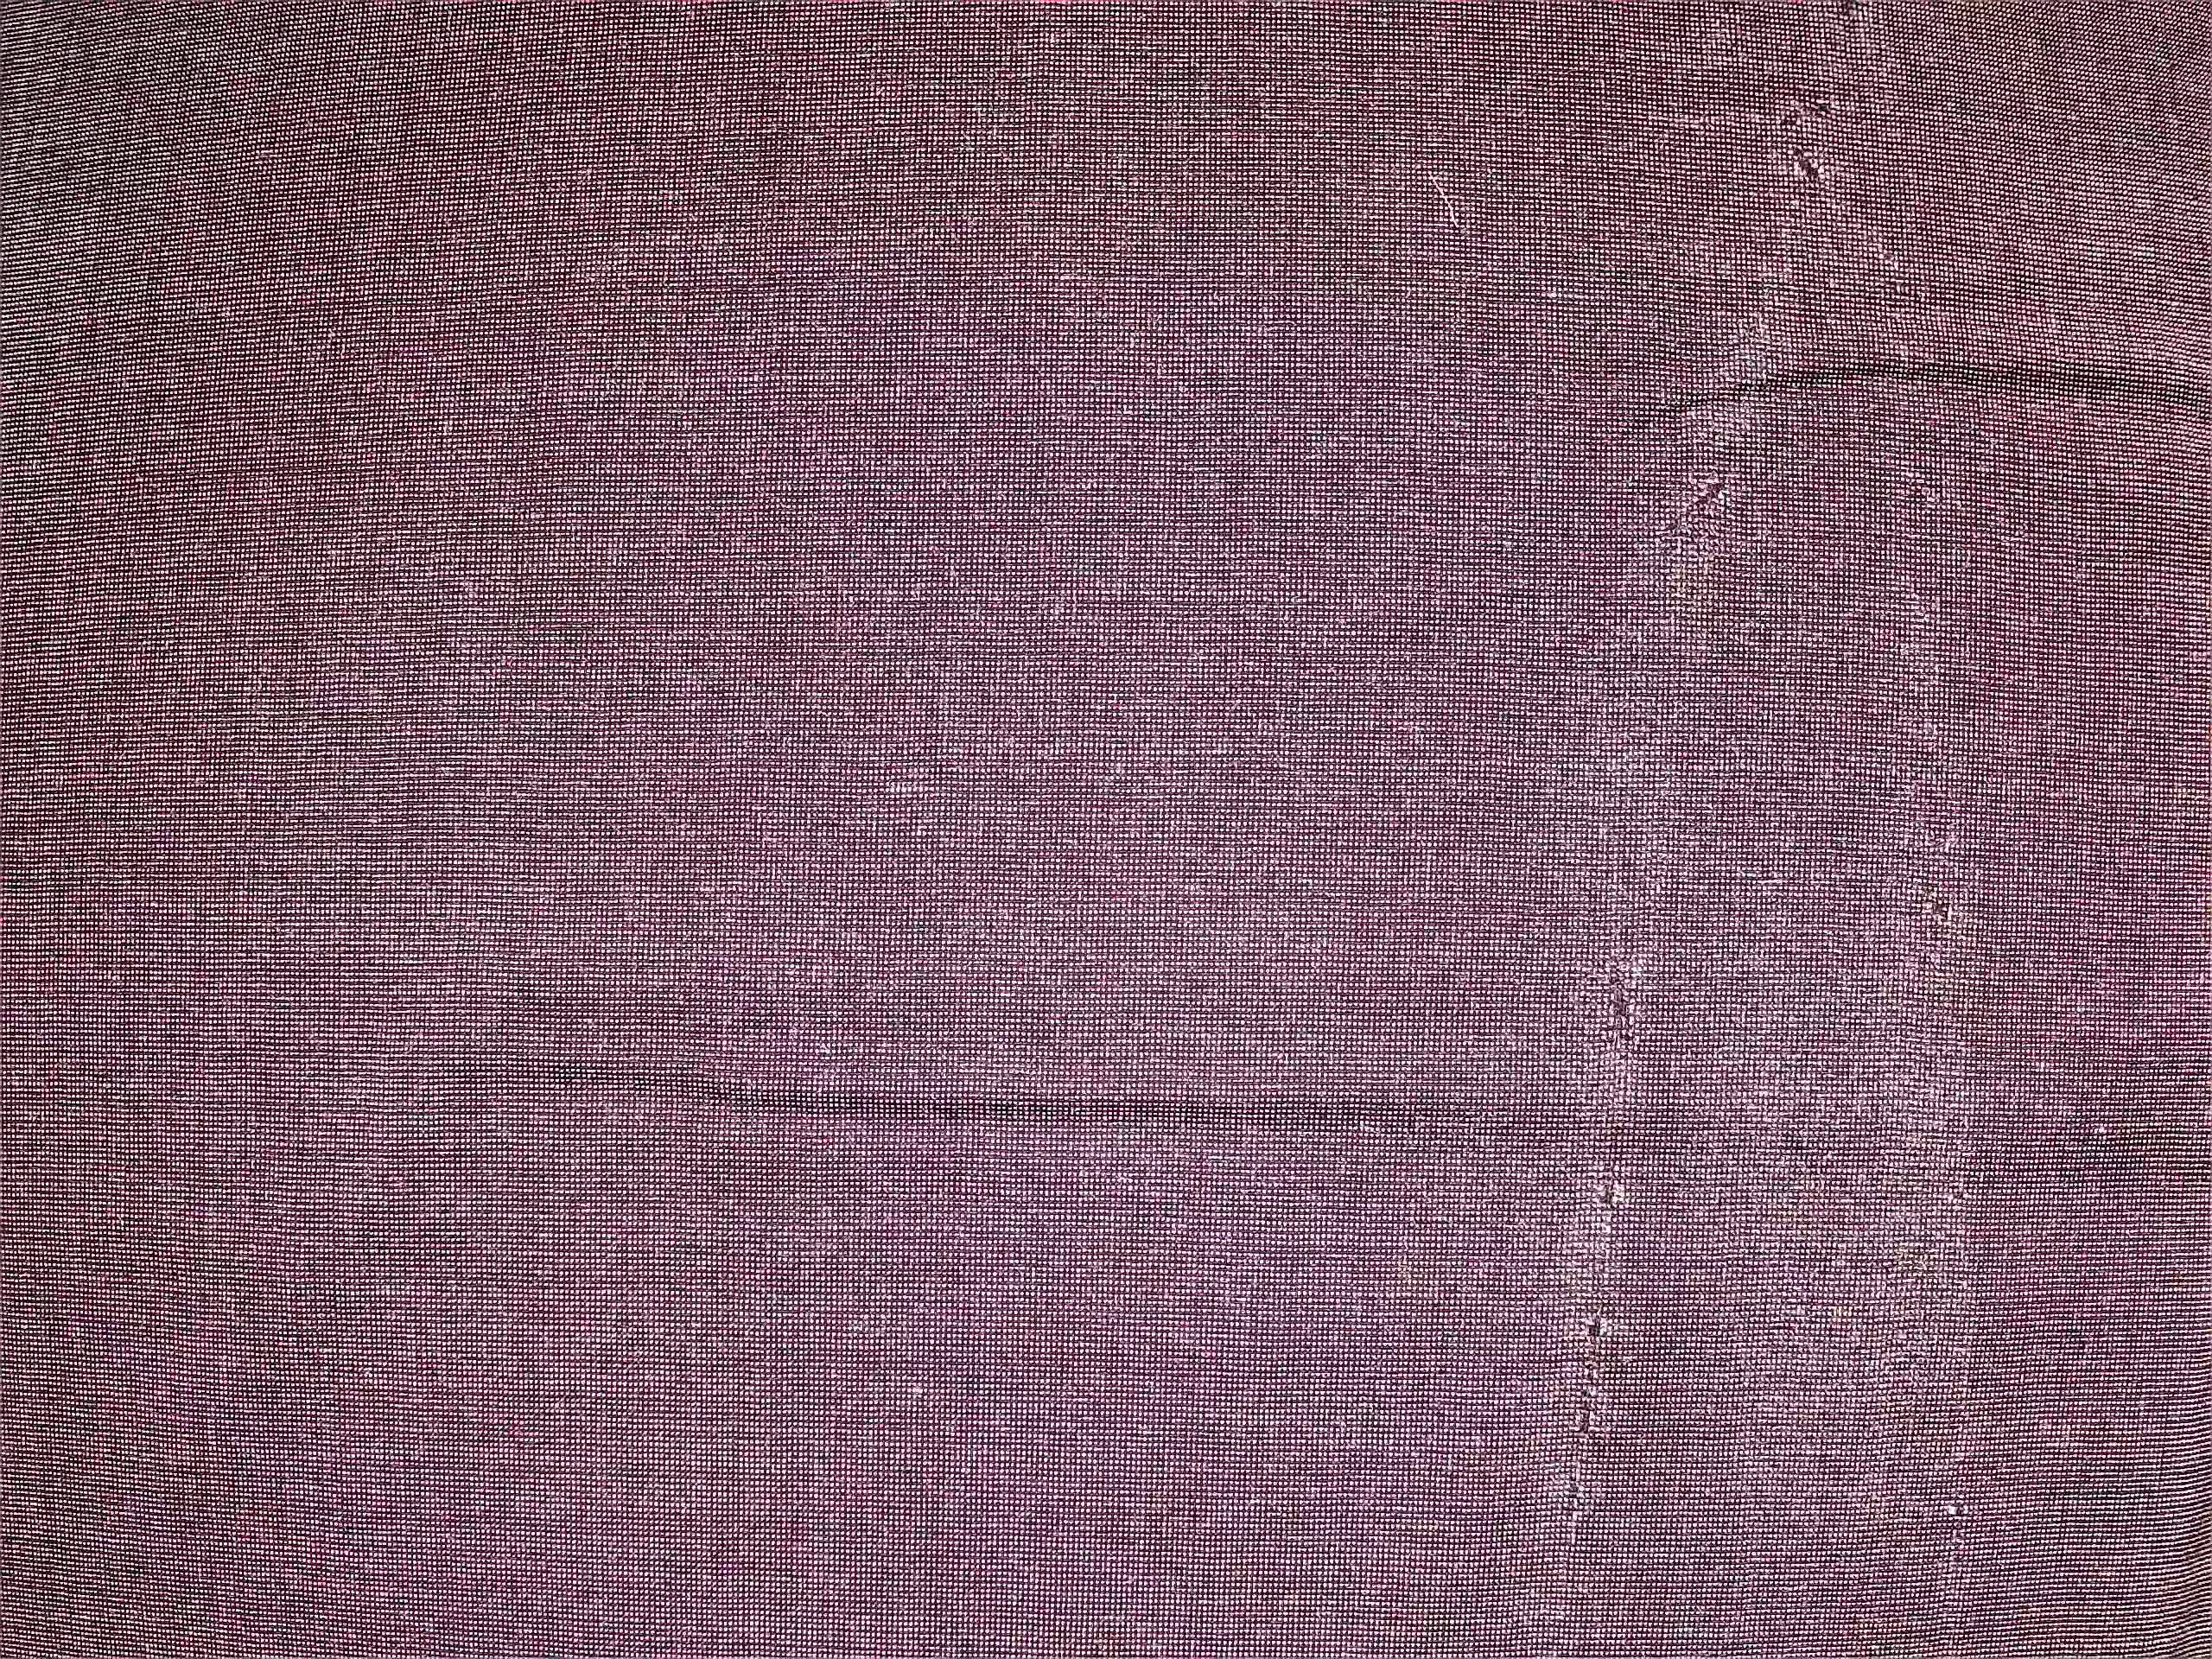rubbing-hole: (1871, 570, 2003, 1584), (1548, 941, 1660, 1551), (1653, 427, 1761, 572), (1749, 77, 1867, 204)
